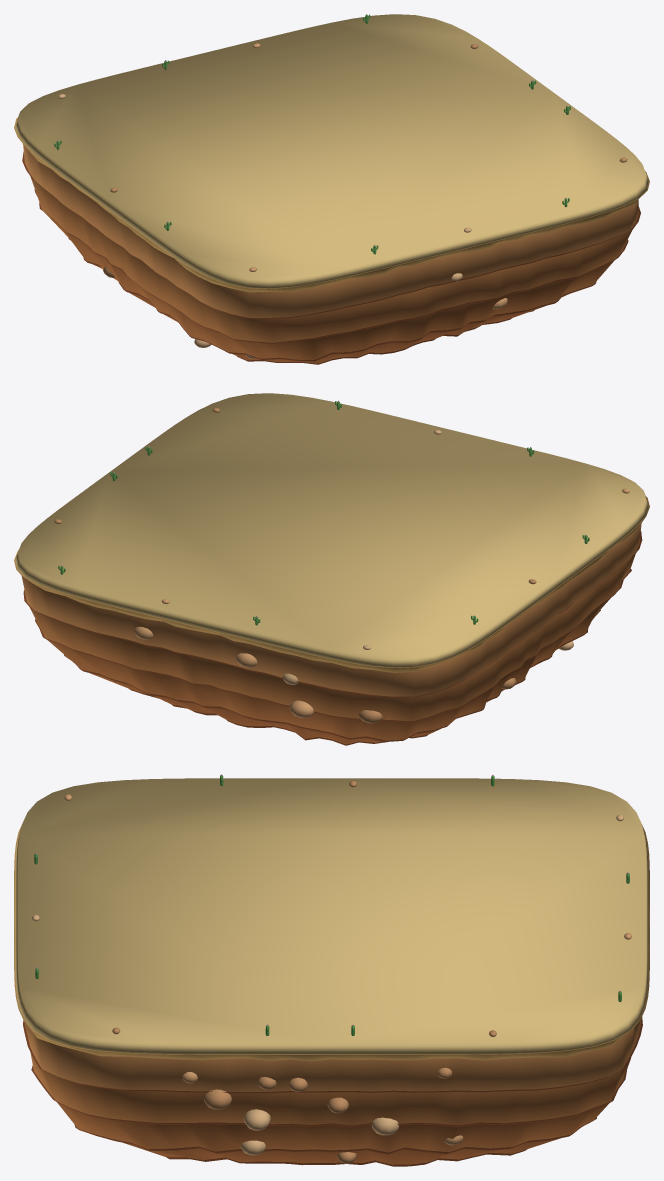
The model's file is island.glb.
3 views of the same model, one above another, from view 1: azimuth 30°, elevation 25°; view 2: azimuth 150°, elevation 25°; view 3: azimuth 270°, elevation 25° (orthographic). The views are drawn at different scales.
Visible parts, largest first — view 1: top; view 2: top; view 3: top.
Boxes of the visible parts, x1,y1,x2,y2 form: top: [14, 14, 649, 364]; top: [14, 393, 649, 745]; top: [14, 774, 649, 1166].
Bounding box in the file's own units: 9.57 × 3.77 × 9.56.
